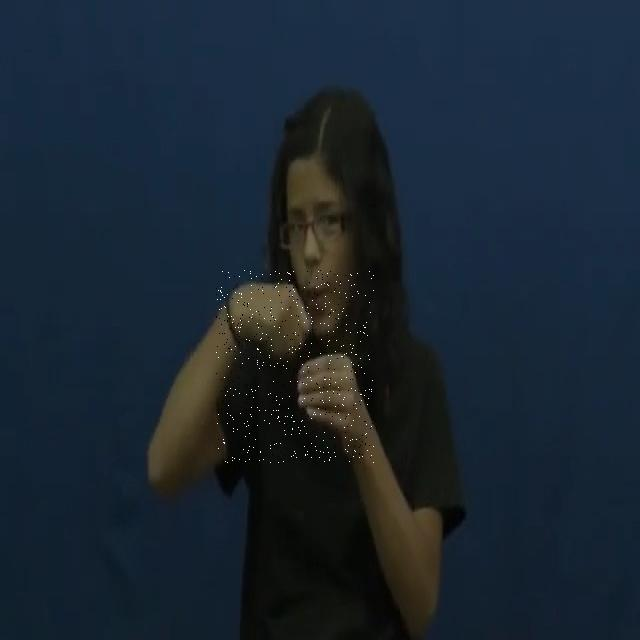yoghurt: (216, 270, 374, 463)
